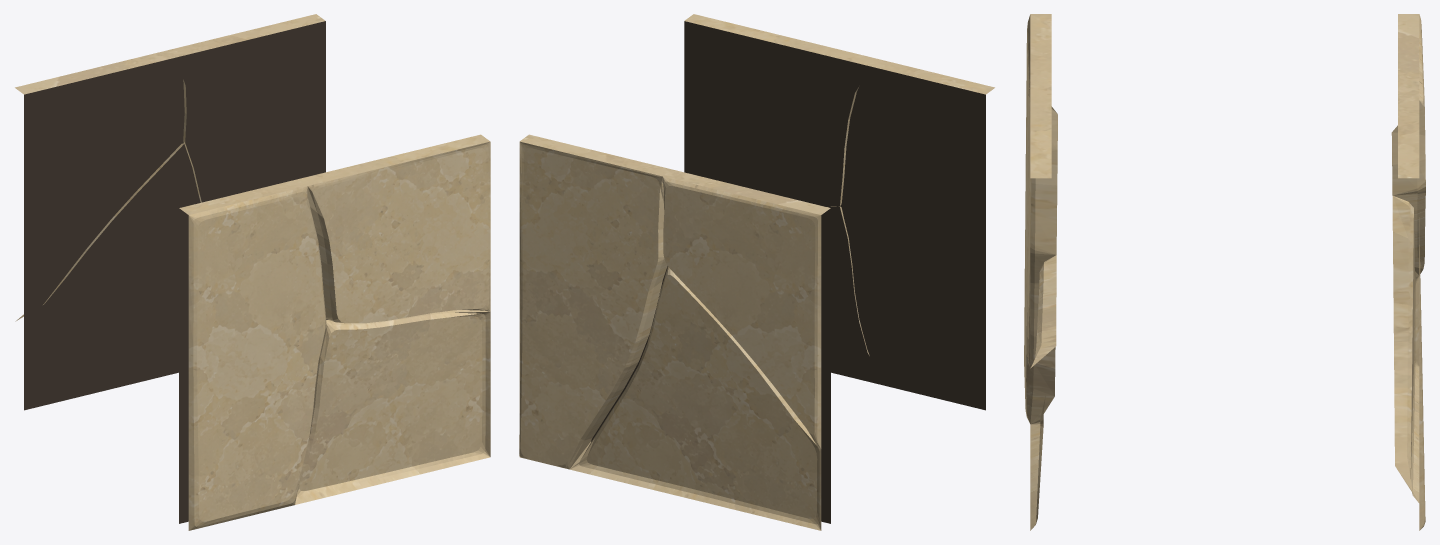
The model's file is ground_square_strip_03.glb.
3 views of the same model, side by side, from view 1: azimuth 30°, elevation 25°; view 2: azimuth 150°, elevation 25°; view 3: azimuth 270°, elevation 25° (orthographic). The views are drawn at different scales.
Visible parts, largest first — view 1: GroundSquareStrip03_Body; view 2: GroundSquareStrip03_Body; view 3: GroundSquareStrip03_Body.
Part boxes in pixels (bbox=[...]): GroundSquareStrip03_Body: bbox=[15, 14, 490, 530]; GroundSquareStrip03_Body: bbox=[519, 14, 994, 530]; GroundSquareStrip03_Body: bbox=[1024, 14, 1425, 530].
Size of the model in its own units: 1 by 1 by 1.03.
Materials: 8 (7 with a texture image).
